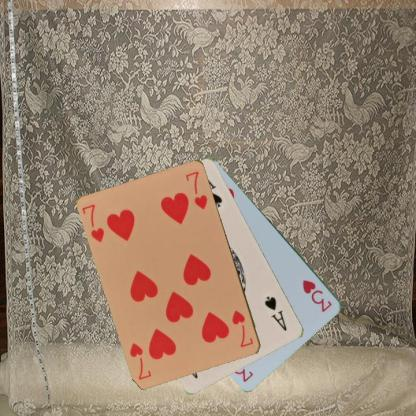3h: (300, 276, 333, 314)
7h: (229, 307, 255, 349), (80, 202, 106, 244)
As: (262, 294, 289, 332)
